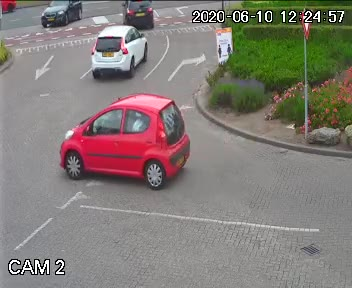car: (49, 85, 195, 203), (84, 26, 155, 79), (30, 0, 95, 32), (118, 0, 163, 24)
